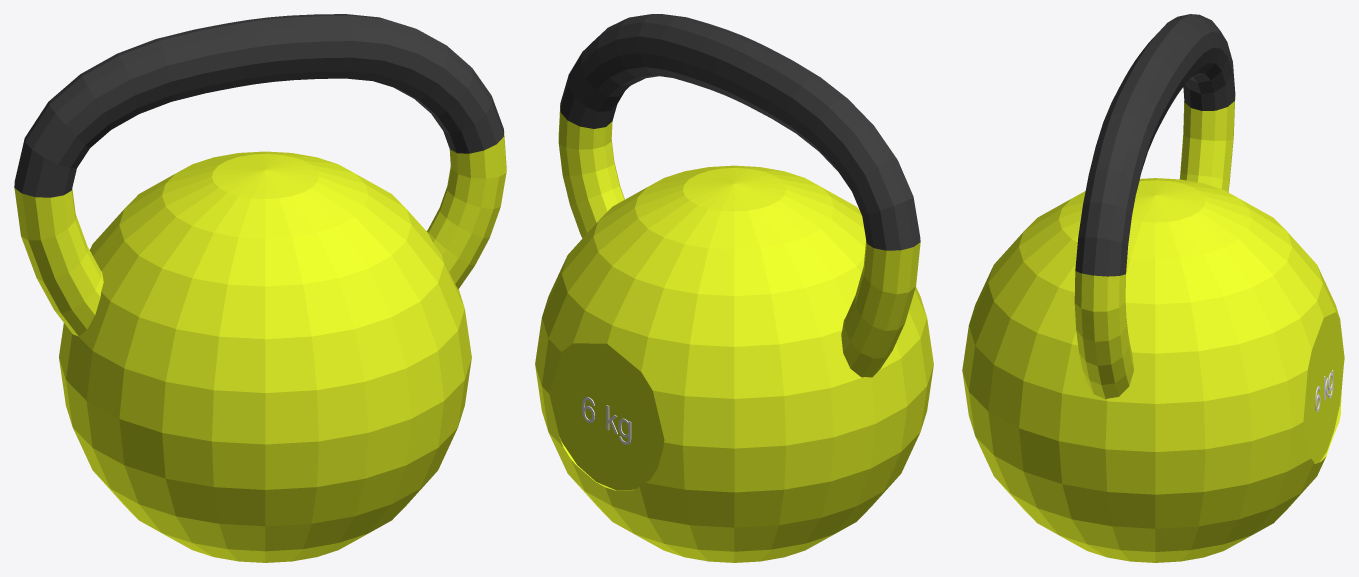
The model's file is Kettlebell.glb.
3 views of the same model, side by side, from view 1: azimuth 30°, elevation 25°; view 2: azimuth 150°, elevation 25°; view 3: azimuth 270°, elevation 25° (orthographic). The views are drawn at different scales.
Visible parts, largest first — view 1: Sphere002, Line003; view 2: Sphere002, Line003, Text002; view 3: Sphere002, Line003.
Boxes of the visible parts, bbox=[...] form: Sphere002: bbox=[59, 151, 471, 562]; Line003: bbox=[14, 14, 506, 336]; Sphere002: bbox=[535, 165, 933, 562]; Line003: bbox=[558, 14, 920, 377]; Text002: bbox=[582, 397, 631, 444]; Sphere002: bbox=[962, 178, 1344, 562]; Line003: bbox=[1074, 14, 1235, 399].
Bounding box in the file's own units: 531573 × 596306 × 441584.
